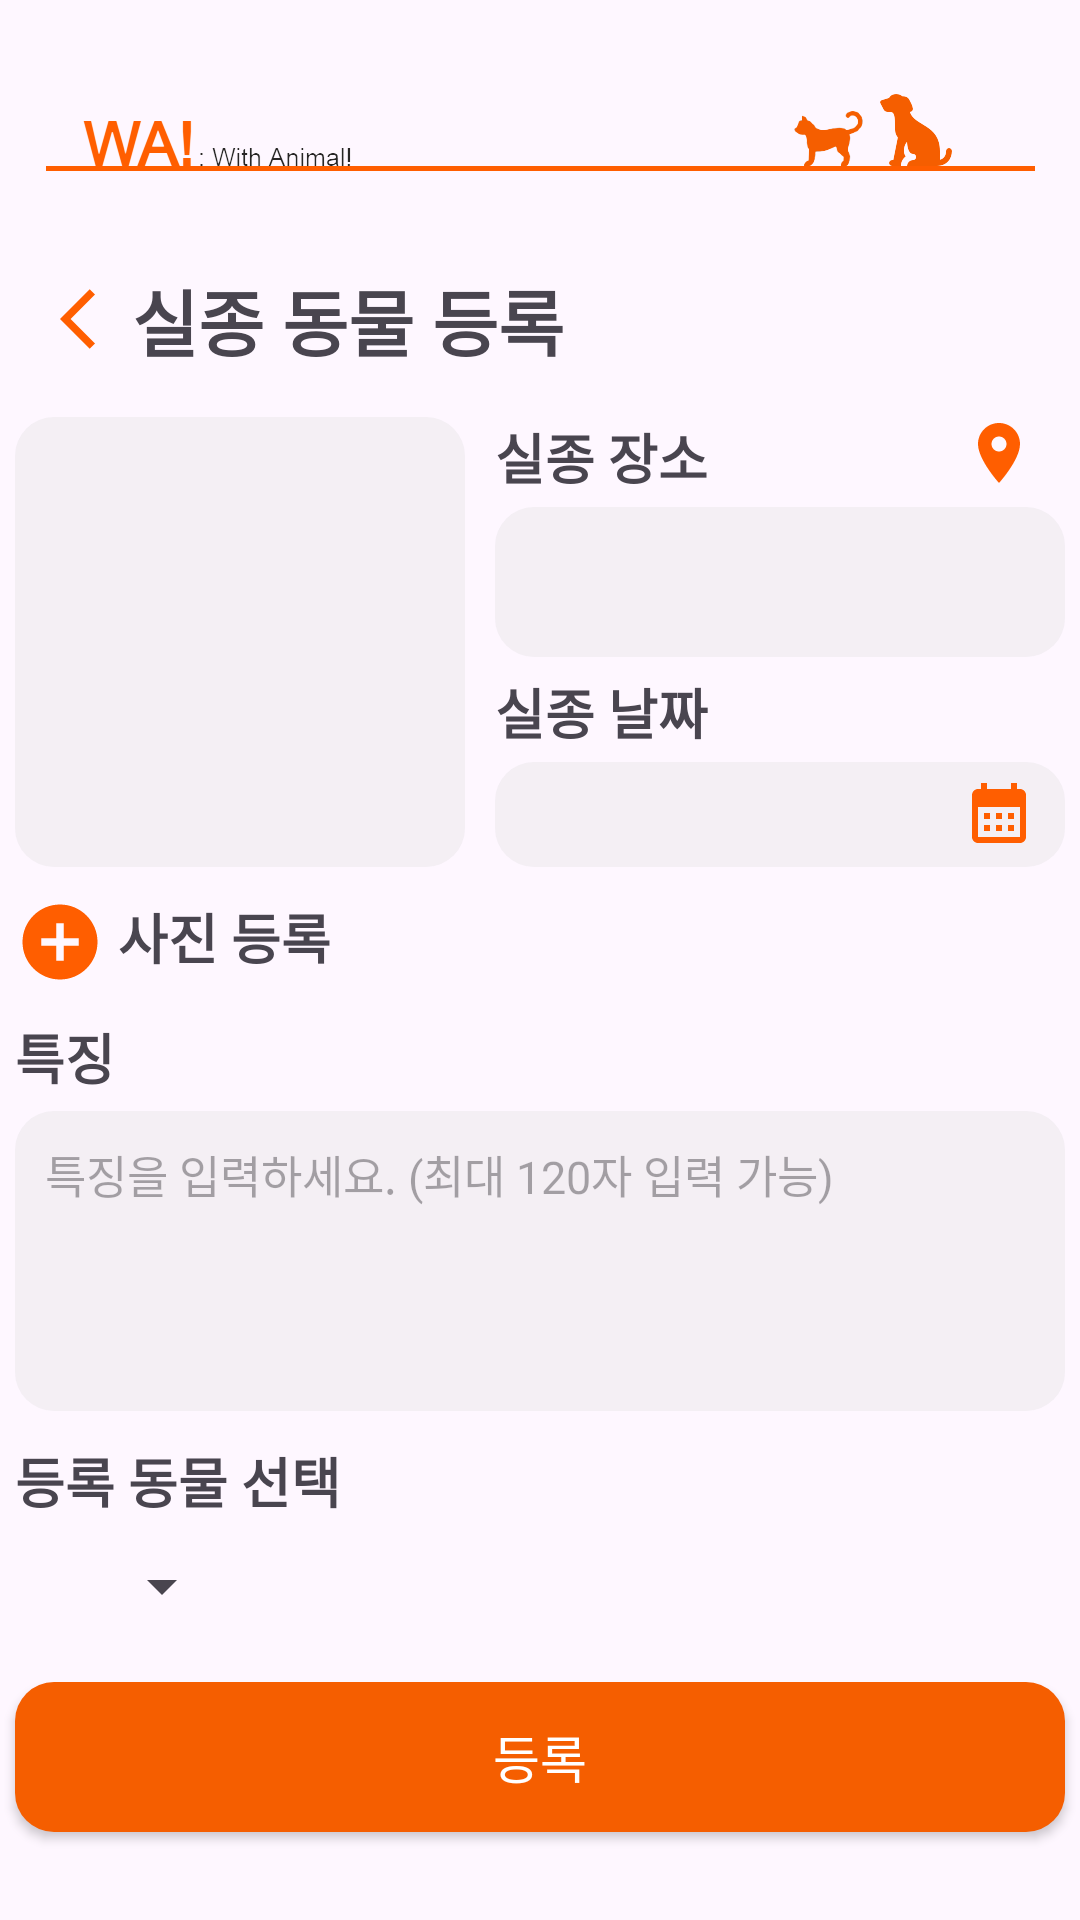

Icon bounding boxes for this 1080px×1920px phone screenshot, format region(x1, y1, x2, y2):
add circle: region(22, 904, 98, 980)
arrow back: region(60, 289, 95, 349)
calendar month: region(972, 783, 1026, 843)
place: region(978, 423, 1020, 483)
